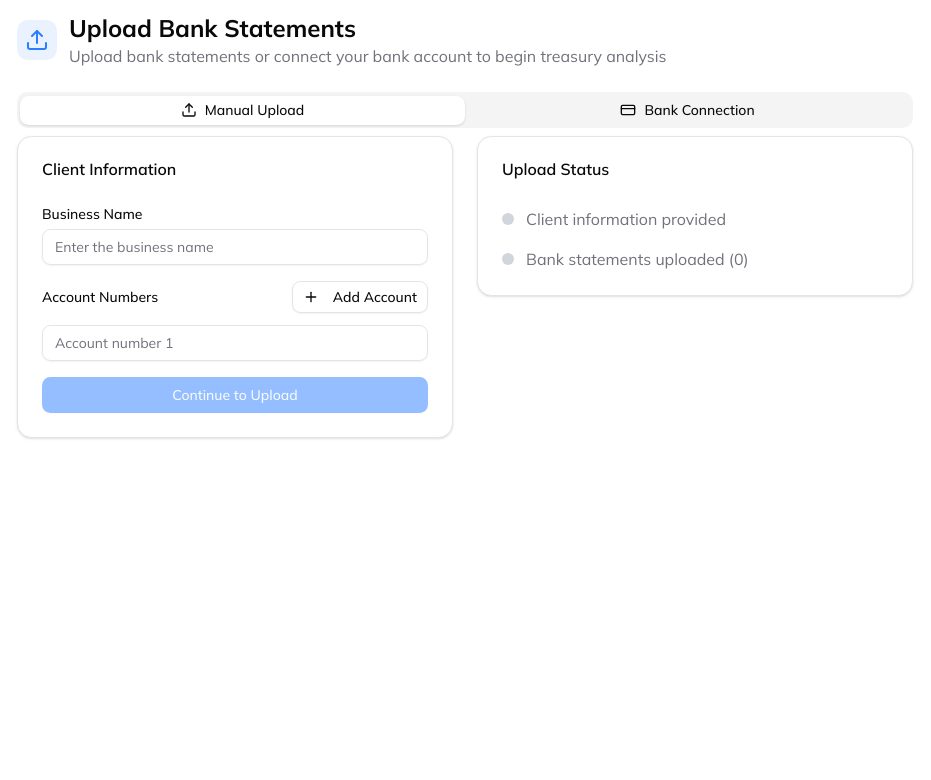
Test: UploadPage › updates status after client info is provided
The image size is (931, 780).
Type "Test Company" into the field with placeholder "Enter the business name" at (235, 247), box [42,229,428,265]
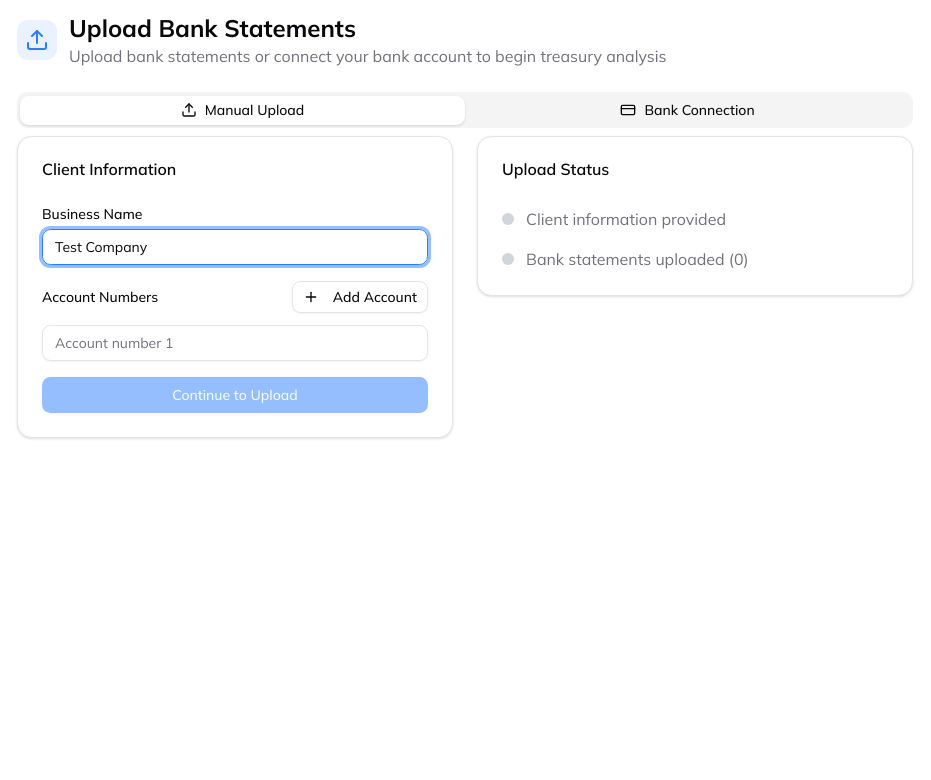
Type "1234567890" into the field with placeholder "Account number 1" at (235, 343), box [42,325,428,361]
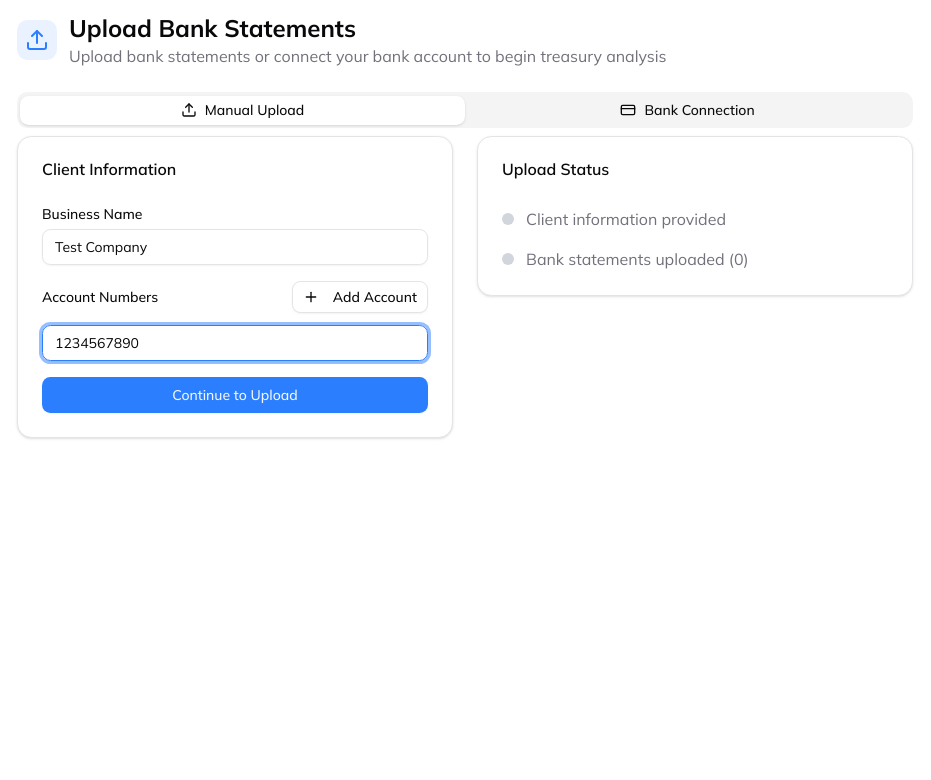
Click the button "Continue to Upload" at (235, 395), box [42,377,428,413]
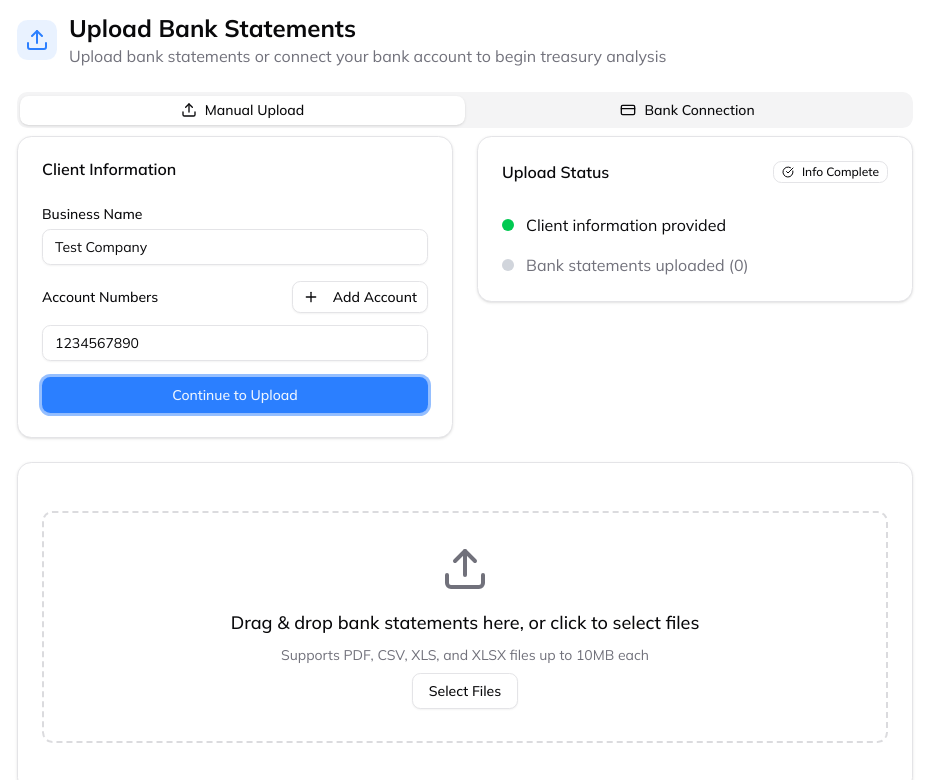
Expected: the text "Info Complete" is shown, [773,161,888,183]
